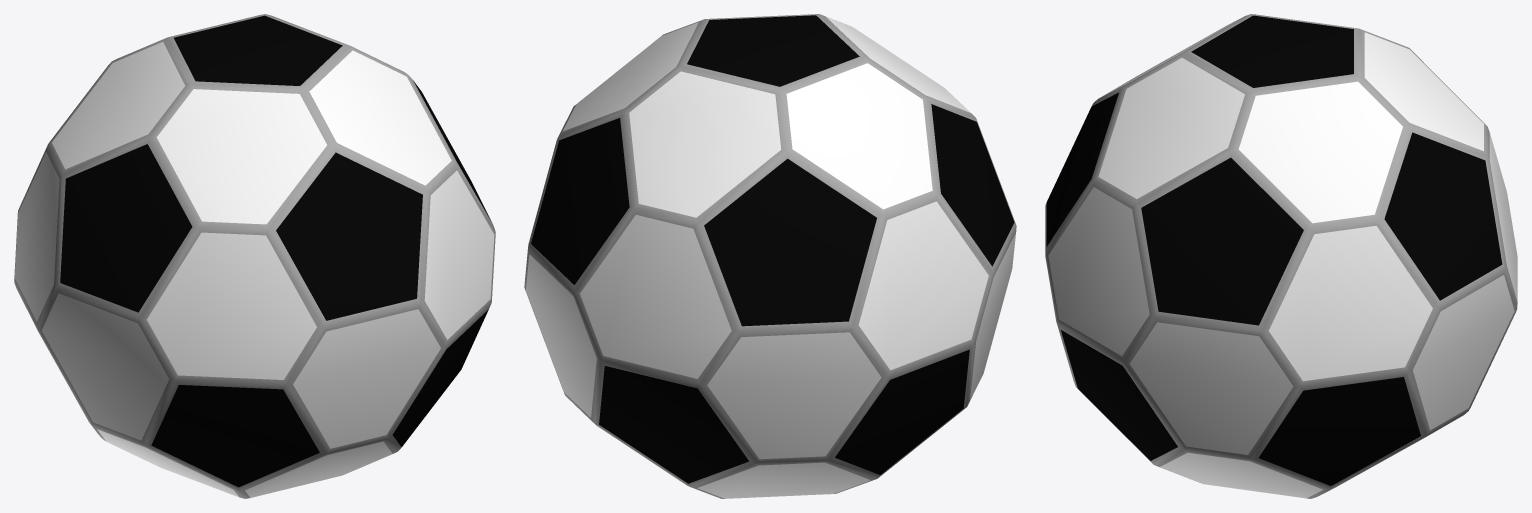
Rendered from Football_1.fbx.
3 views of the same model, side by side, from view 1: azimuth 30°, elevation 25°; view 2: azimuth 150°, elevation 25°; view 3: azimuth 270°, elevation 25° (orthographic). The views are drawn at different scales.
Visible parts, largest first — view 1: Football_1; view 2: Football_1; view 3: Football_1.
Part boxes in pixels (box(x1,y1,x2,y2)): Football_1: box(14, 14, 495, 498); Football_1: box(524, 14, 1016, 498); Football_1: box(1045, 14, 1517, 498).
Size of the model in its own units: 0.1913 by 0.1788 by 0.1867.
